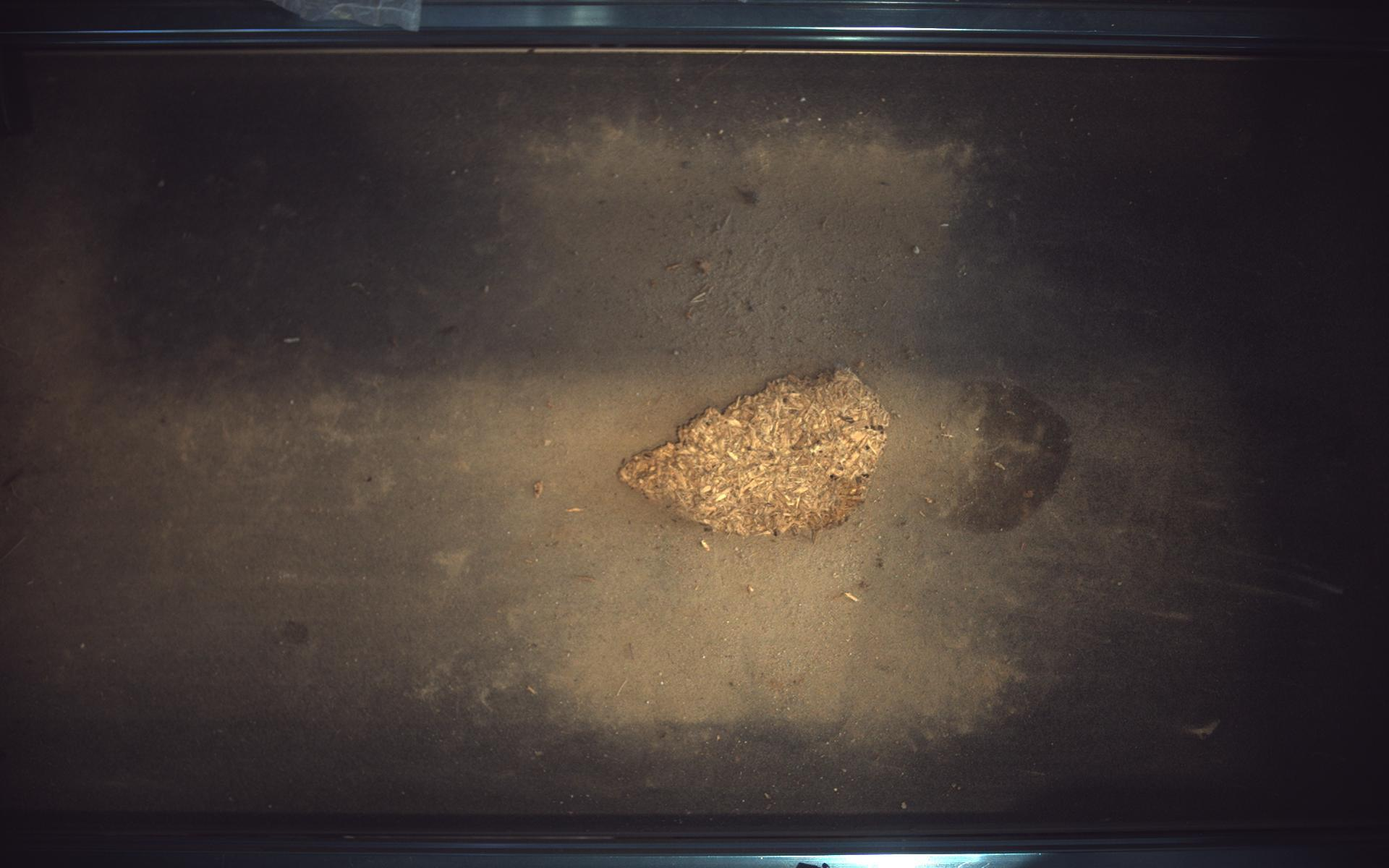wood: (619, 367, 892, 536)
